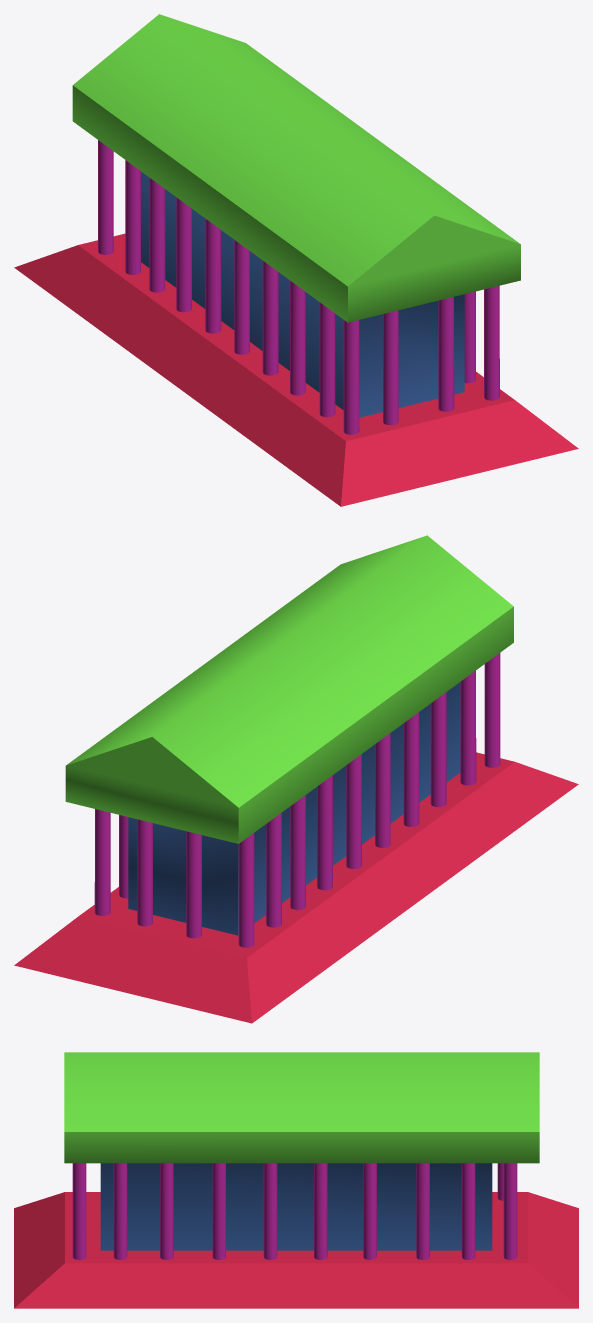
Rendered from Temple of Artemis.fbx.
3 renders of one model, top to bottom at view 1: azimuth 30°, elevation 25°; view 2: azimuth 150°, elevation 25°; view 3: azimuth 270°, elevation 25°, orthographic. The views are drawn at different scales.
Parts seen in each view (by area): view 1: Temple_of_Artemis; view 2: Temple_of_Artemis; view 3: Temple_of_Artemis.
Boxes of the visible parts, x1=… form: Temple_of_Artemis: x1=14, y1=14, x2=578, y2=506; Temple_of_Artemis: x1=14, y1=535, x2=578, y2=1023; Temple_of_Artemis: x1=14, y1=1052, x2=578, y2=1308.
Size of the model in its own units: 44.33 by 42.74 by 105.
